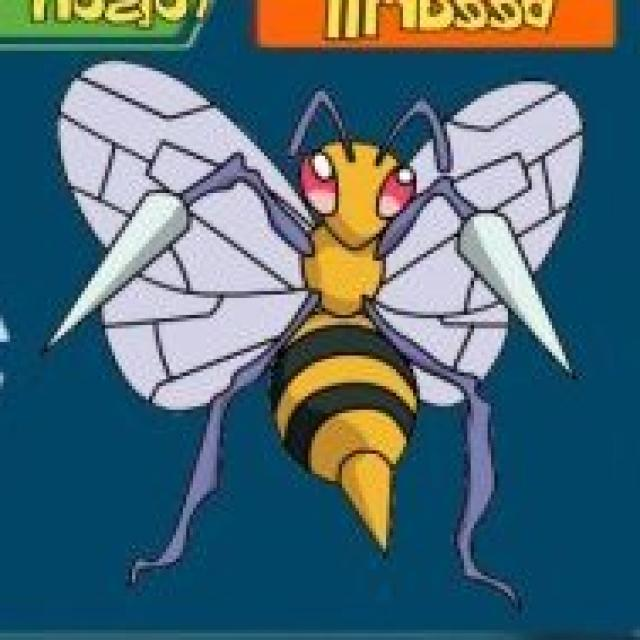Beedrill: (168, 86, 586, 546)
